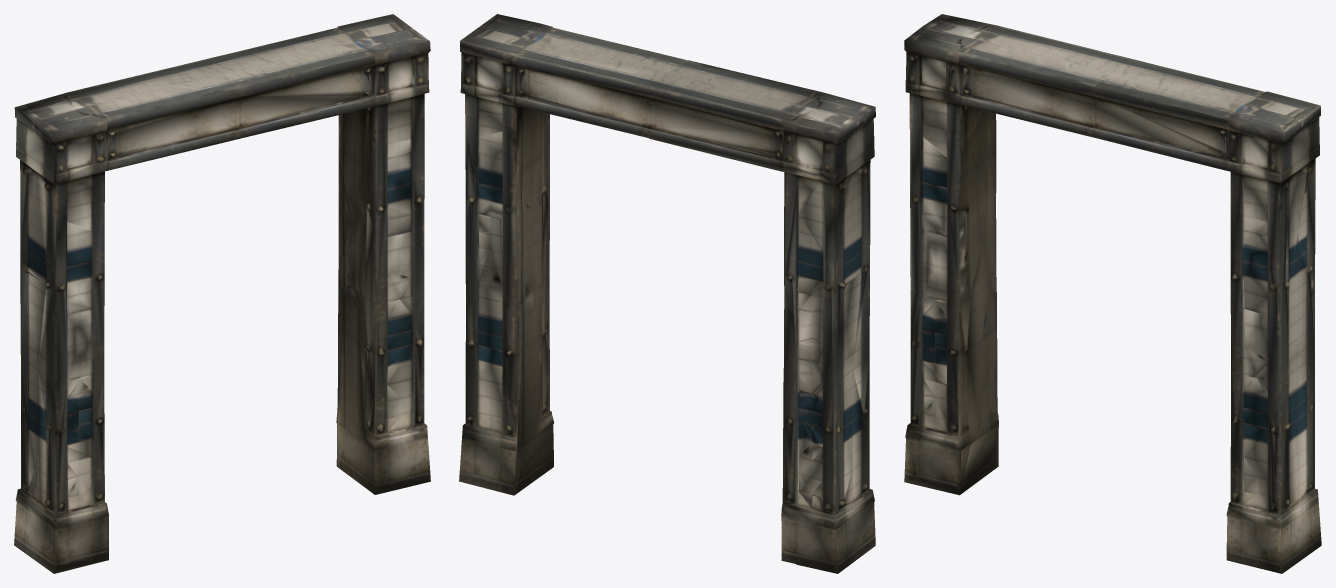
The model's file is game.glb.
3 renders of one model, left to right at view 1: azimuth 30°, elevation 25°; view 2: azimuth 150°, elevation 25°; view 3: azimuth 330°, elevation 25°, orthographic.
Parts seen in each view (by area): view 1: convert; view 2: convert; view 3: convert.
Boxes of the visible parts, x1,y1,x2,y2 form: convert: [14, 14, 430, 573]; convert: [459, 14, 875, 573]; convert: [904, 14, 1321, 573].
Bounding box in the file's own units: 0.7997 × 0.8877 × 0.151.
1 material, 1 textured.
